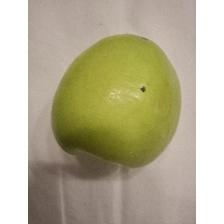Apfel: (50, 33, 184, 169)
